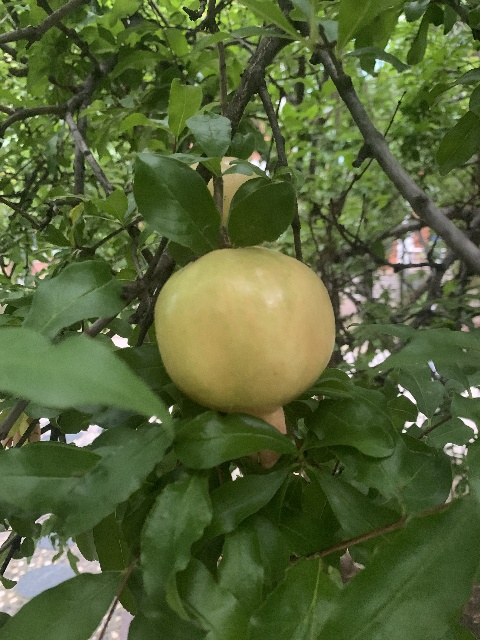mid-growth: (153, 245, 336, 465)
